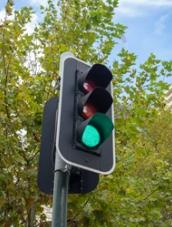green_light: (56, 56, 115, 175)
